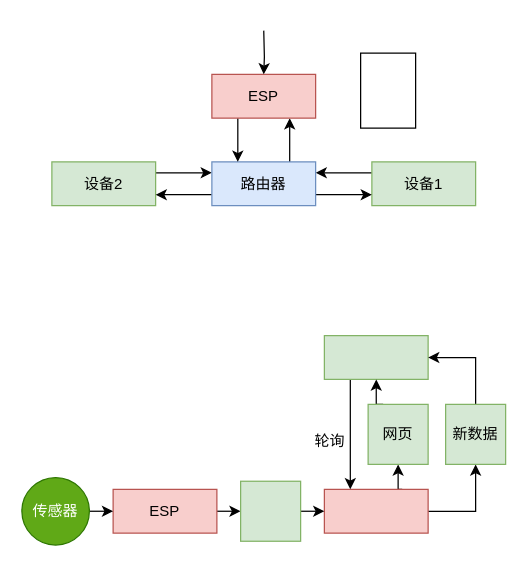
This 528x568 diagram has some shape labels left out. Each missing label, with the centre of its shape:
HTTP服务器: point 375,510
串口: point 387,90
更新数据: point 270,510
设备: point 375,356
